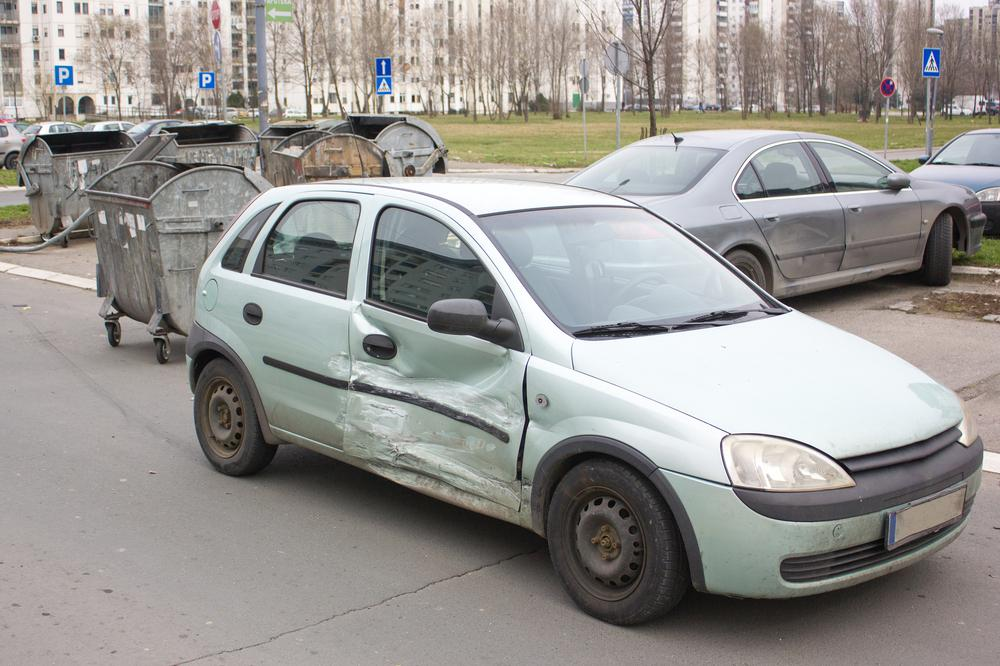dent: (339, 304, 524, 489), (369, 466, 434, 488), (327, 352, 350, 392)
